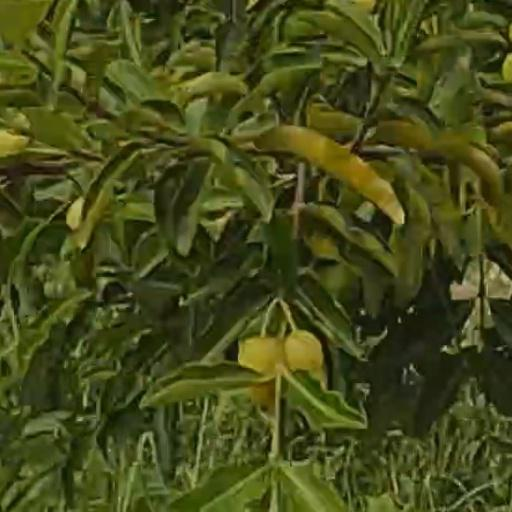acerola_verde: (287, 333, 324, 373), (243, 339, 279, 370)
